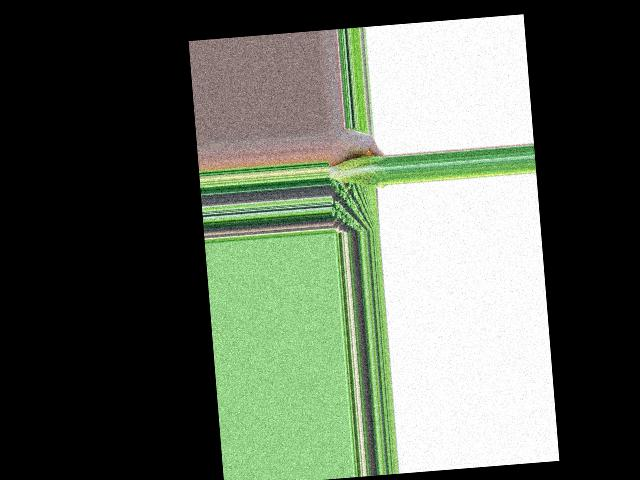lettuce: (327, 155, 386, 190)
